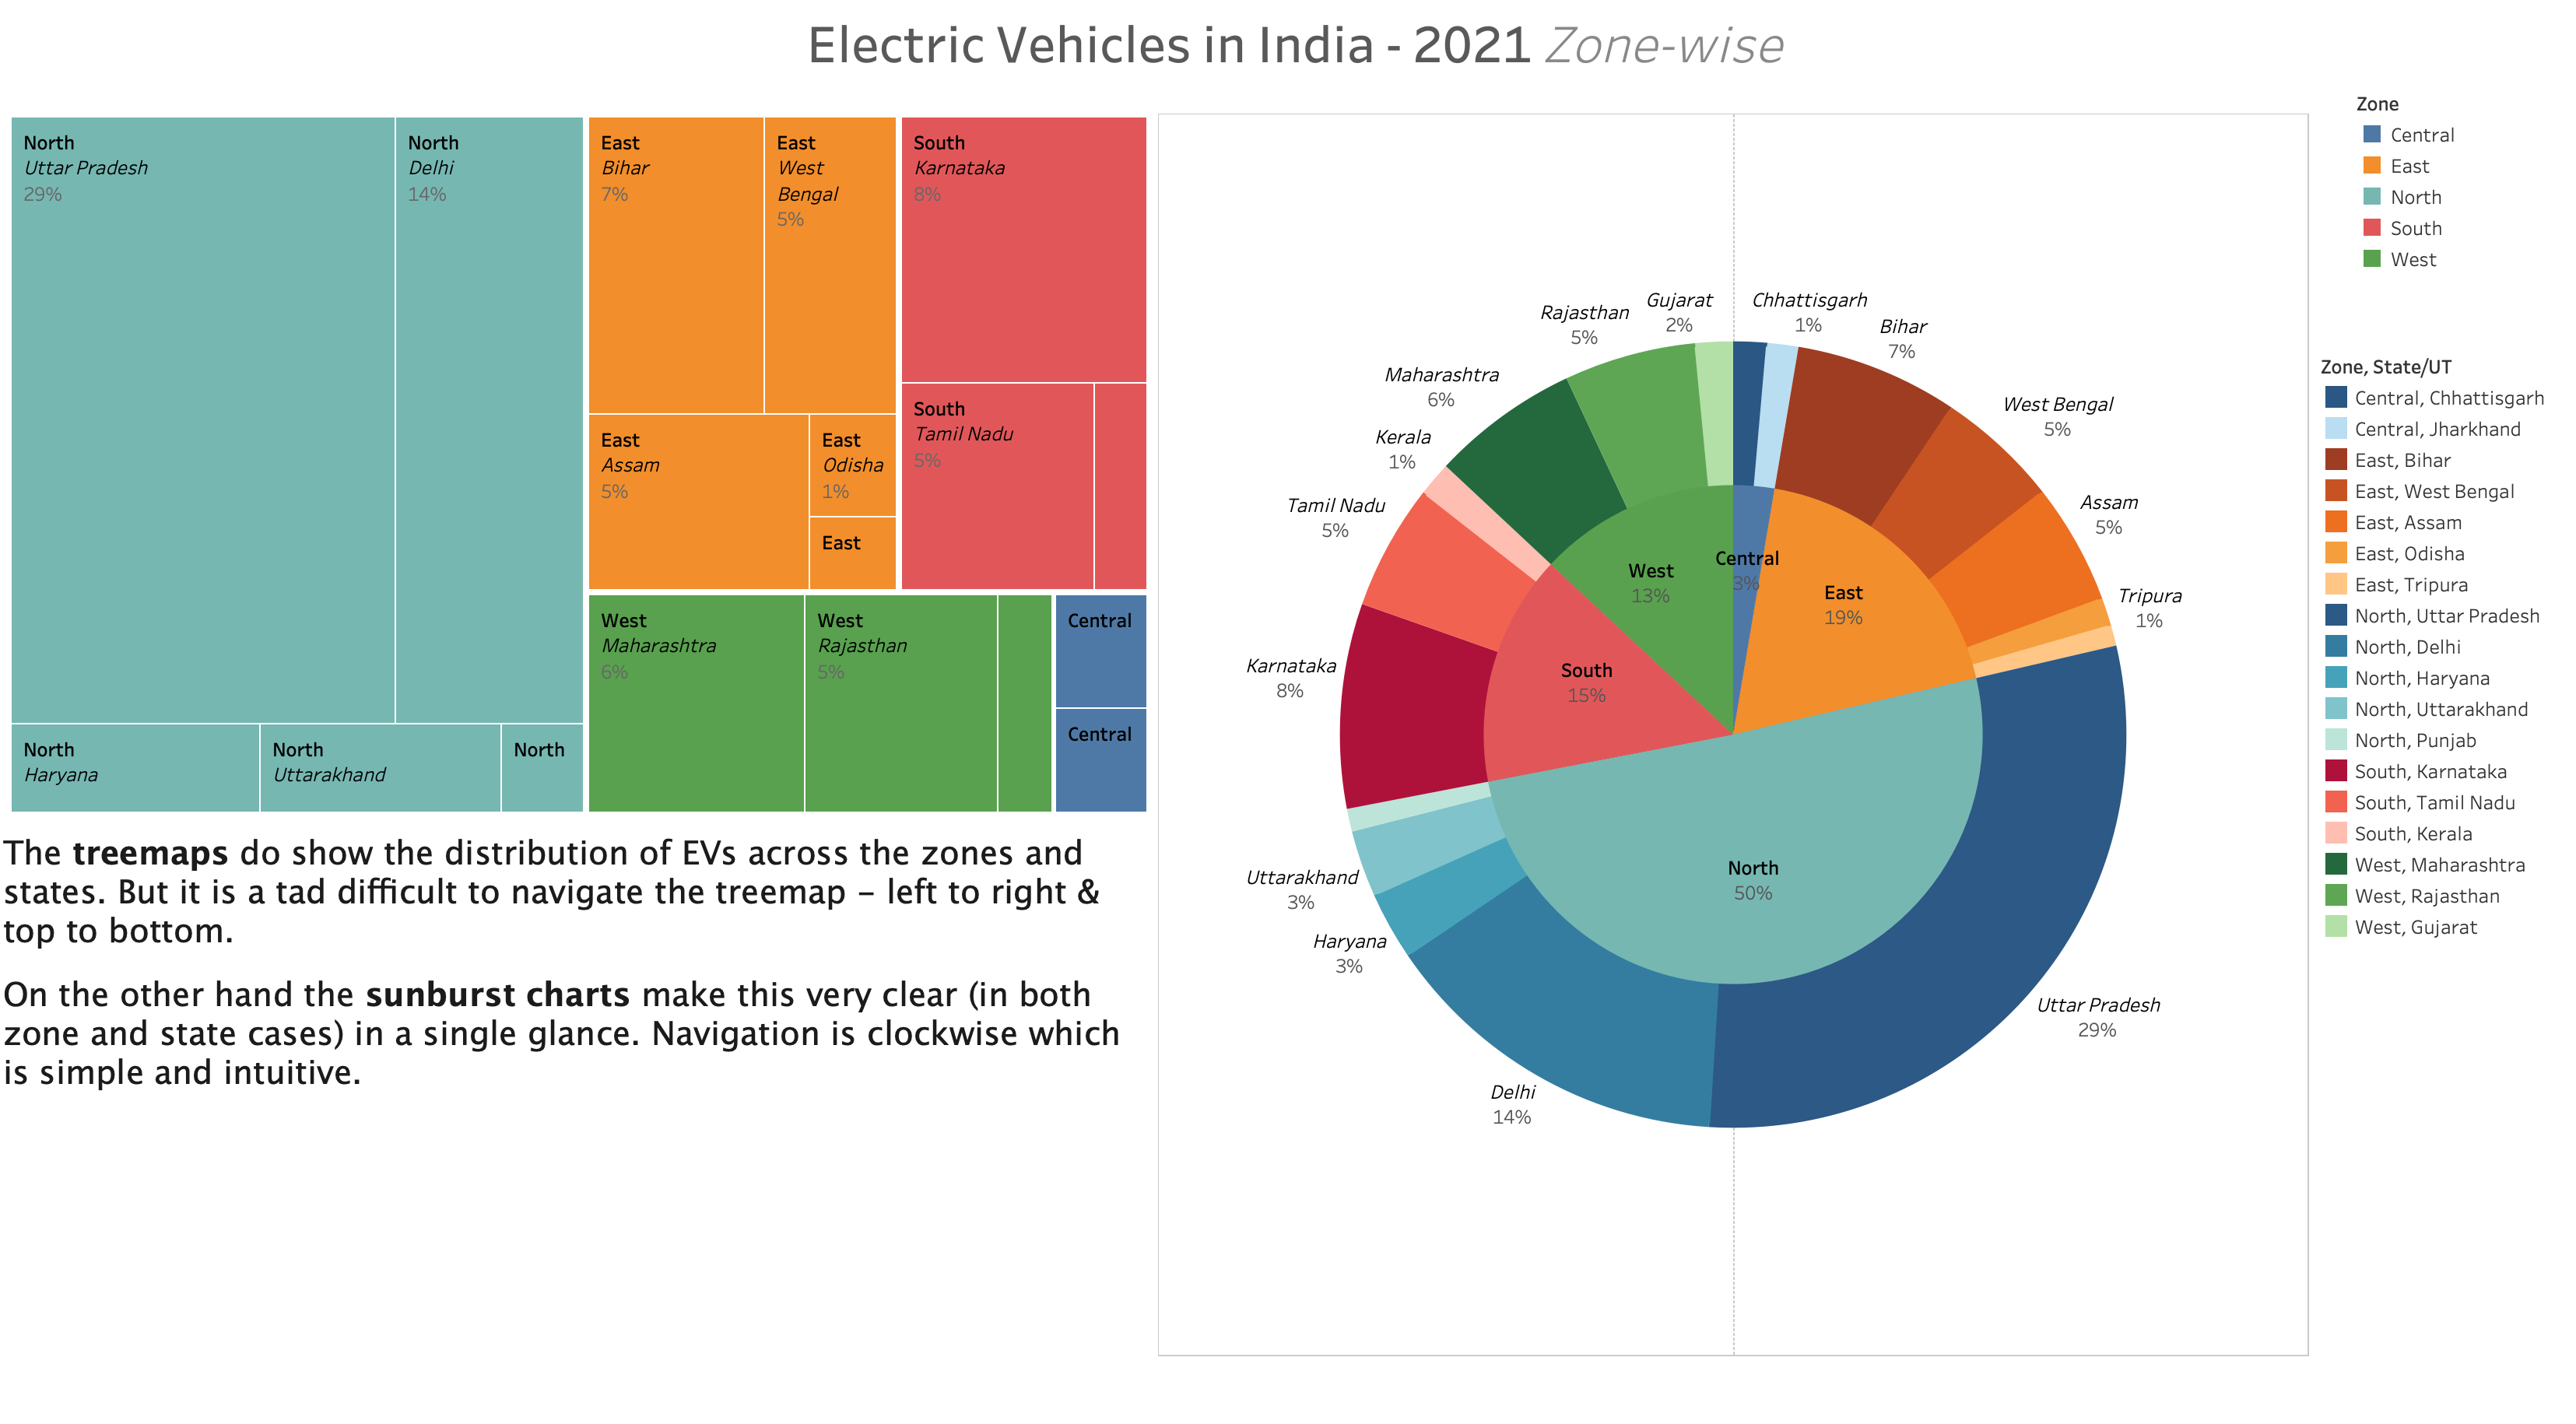

The page's visual inventory and layout, read from the dashboard file:
{"tool":"tableau","page":{"name":"Zone-wise","canvas":[1000,1000],"units":"permille","ordinal":1},"visuals":[{"type":"title","box":[5.5,9.5,989.1,62.8]},{"type":"legend","title":"TM1","param":"[federated.1h4i9200o41wzu14zfeil0i64jp7].[none:Zone:nk]","box":[889,72.3,105.5,149.3]},{"type":"worksheet","title":"TM1","mark":"Automatic","box":[5.5,75.8,440.4,782]},{"type":"worksheet","title":"SB1","mark":"Pie","cols":["Calculation_6422555299345653766","Calculation_6422555299345612804"],"box":[447.2,78.2,440.4,783.2]},{"type":"legend","title":"SB1","param":"[federated.1h4i9200o41wzu14zfeil0i64jp7].[none:Zone:nk]\n[federated.1h4i9200o41wz","box":[891.8,229.9,101.4,447.9]}]}

Visuals, with their boxes on the dashboard's canvas, which has no fixed pixel size, in thousandths of its width and height (x1, y1, x2, y2). These are canvas units, not pixel positions in the 2576x1424 screenshot, which may show the page scaled, cropped or inside an application window:
title: select_region(6, 10, 995, 72)
"TM1" legend: select_region(889, 72, 994, 222)
"TM1" worksheet: select_region(6, 76, 446, 858)
"SB1" worksheet (Pie marks): select_region(447, 78, 888, 861)
"SB1" legend: select_region(892, 230, 993, 678)
